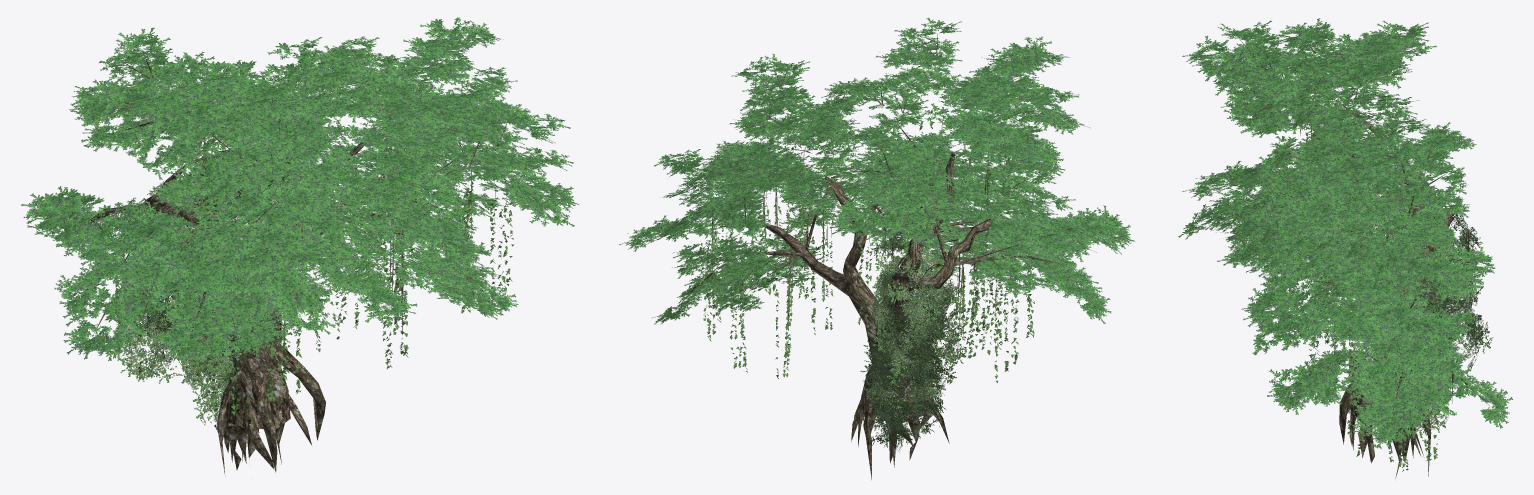
File: Big_tree_03_ivy.glb
The picture shows the model from 3 angles, left to right: view 1: azimuth 30°, elevation 25°; view 2: azimuth 150°, elevation 25°; view 3: azimuth 270°, elevation 25°; orthographic projection. The views are drawn at different scales.
Parts seen in each view (by area): view 1: Big_tree_03_ivy; view 2: Big_tree_03_ivy; view 3: Big_tree_03_ivy.
Boxes of the visible parts, x1,y1,x2,y2 form: Big_tree_03_ivy: [21, 17, 579, 475]; Big_tree_03_ivy: [619, 17, 1135, 479]; Big_tree_03_ivy: [1178, 18, 1512, 478].
Bounding box in the file's own units: 33.29 × 26.32 × 19.54.
5 materials, 5 textured.
